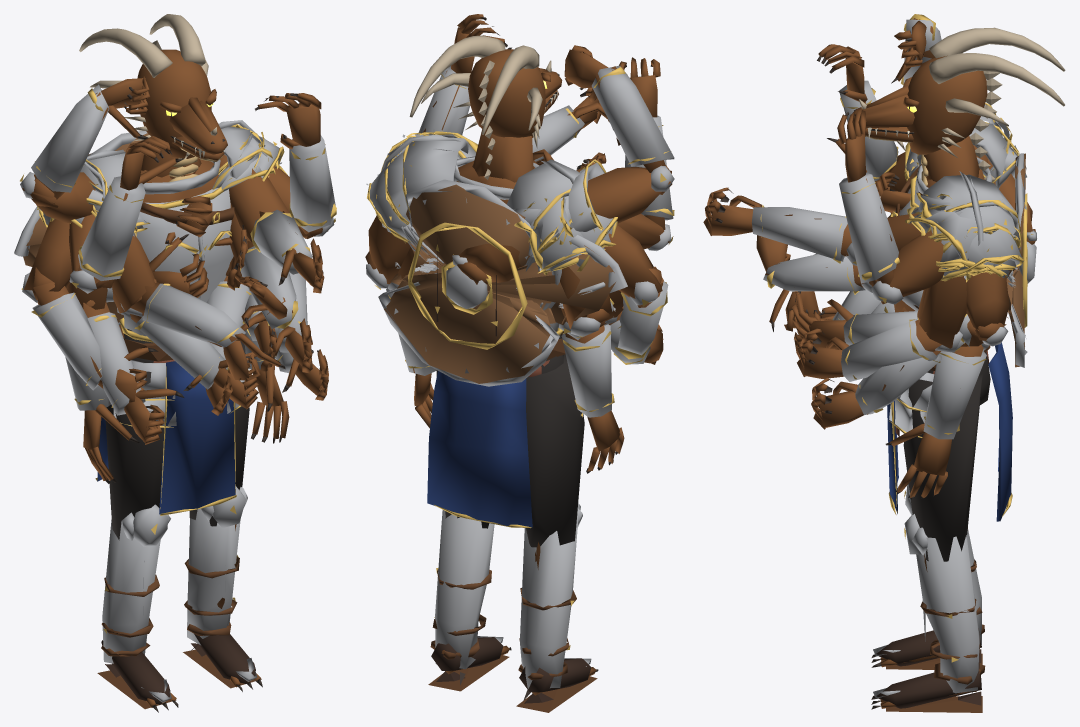
File: hero_10.glb
The picture shows the model from 3 angles, left to right: view 1: azimuth 30°, elevation 25°; view 2: azimuth 150°, elevation 25°; view 3: azimuth 270°, elevation 25°; orthographic projection. The views are drawn at different scales.
Visible parts, largest first — view 1: B_7d, B_5d, B_0d, B_8d, R.cast_38d, R.raised_23d, R.xbowR_48d, L.cast_83d, R.staffR_33d, R.staffR_30d, R.twoR_43d, R.weapon_18d (+36 smaller); view 2: B_7d, B_9d, B_5d, B_0d, B_6d, B_8d, R.raised_23d, R.raised_24, R.rest_13d, R.raised_20d, R.staffR_33d, R.staffR_30d (+23 smaller); view 3: B_7d, B_0d, B_8d, B_6d, L.cast_83d, B_5d, L.bowArm_68d, L.rest_58d, L.shield_63d, L.xbowL_78d, L.shield_60d, B_9d (+24 smaller).
Part boxes in pixels (x1,y1,x2,y2): B_7d: (101,329,249,663); B_5d: (95,159,236,515); B_0d: (79,14,227,182); B_8d: (97,622,261,709); R.cast_38d: (69,176,145,293); R.raised_23d: (20,84,109,198); R.xbowR_48d: (120,283,245,347); L.cast_83d: (289,135,336,236); R.staffR_33d: (21,272,102,390); R.staffR_30d: (24,219,101,377); R.twoR_43d: (117,308,225,389); R.weapon_18d: (87,312,145,415); B_7d: (432,329,584,688); B_9d: (378,179,559,386); B_5d: (427,156,565,527); B_0d: (409,35,562,186); B_6d: (381,134,604,249); B_8d: (428,636,597,712); R.raised_23d: (591,65,674,191); R.raised_24: (487,234,627,319); R.rest_13d: (559,321,614,417); R.raised_20d: (587,66,672,223); R.staffR_33d: (615,281,668,359); R.staffR_30d: (604,225,663,307); B_7d: (889,352,990,693); B_0d: (852,27,1065,186); B_8d: (873,624,985,712); B_6d: (917,122,1020,245); L.cast_83d: (839,172,903,304); B_5d: (887,157,1012,521); L.bowArm_68d: (751,205,856,265); L.rest_58d: (923,343,988,439); L.shield_63d: (841,319,962,381); L.xbowL_78d: (763,254,872,294); L.shield_60d: (915,276,966,351); B_9d: (1008,153,1036,367).
Bounding box in the file's own units: 0.9045 × 1.9 × 0.9731.
